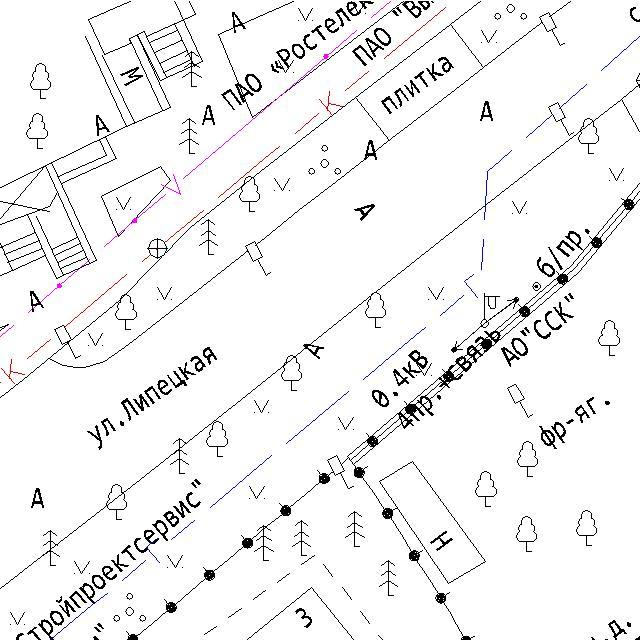asphalt: (92, 112, 112, 138), (301, 341, 326, 361), (27, 288, 45, 314), (354, 202, 376, 222), (28, 486, 46, 510), (230, 10, 247, 34), (362, 138, 379, 162), (478, 98, 494, 123), (200, 103, 217, 126)
bushes: (307, 144, 342, 178), (112, 591, 148, 624)
sing: (242, 240, 274, 279), (52, 322, 83, 362), (326, 453, 356, 493), (538, 11, 568, 49), (506, 383, 535, 420), (547, 100, 575, 138)
tree: (26, 61, 54, 101), (204, 419, 230, 459), (596, 318, 622, 358), (104, 482, 130, 521), (278, 354, 304, 393), (178, 116, 202, 158), (113, 292, 138, 332), (574, 508, 599, 548), (576, 116, 601, 156), (473, 470, 499, 508), (252, 523, 276, 564), (25, 111, 50, 150), (197, 216, 220, 258), (363, 291, 388, 329), (343, 508, 366, 549), (516, 439, 540, 478), (238, 174, 261, 214), (39, 528, 62, 568), (515, 514, 539, 552), (291, 518, 313, 558), (378, 558, 400, 597), (169, 436, 190, 476), (182, 50, 204, 88)
well: (146, 237, 168, 260)
